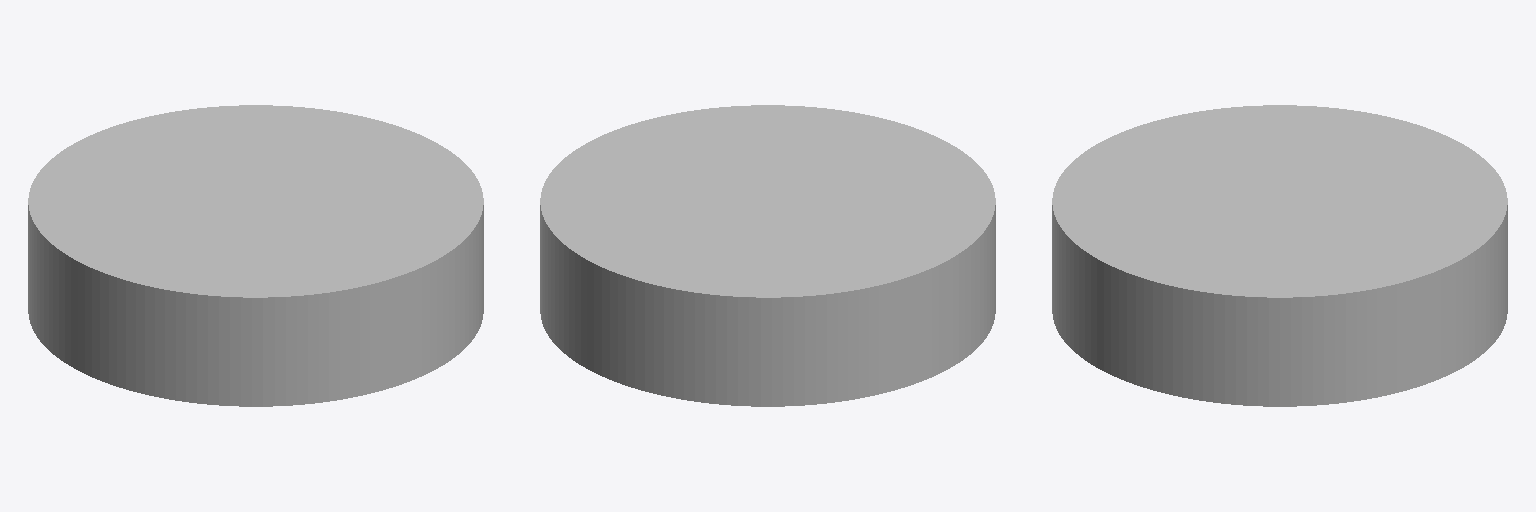
Rendered from beam.obj.
The picture shows the model from 3 angles: view 1: azimuth 30°, elevation 25°; view 2: azimuth 150°, elevation 25°; view 3: azimuth 270°, elevation 25°; orthographic projection.
Parts seen in each view (by area): view 1: Cylinder.001; view 2: Cylinder.001; view 3: Cylinder.001.
Part boxes in pixels (left/top/right/bottom): Cylinder.001: left=28, top=105, right=483, bottom=406; Cylinder.001: left=540, top=105, right=995, bottom=406; Cylinder.001: left=1052, top=105, right=1507, bottom=406.
Bounding box in the file's own units: 0.7916 × 0.2093 × 0.7916.